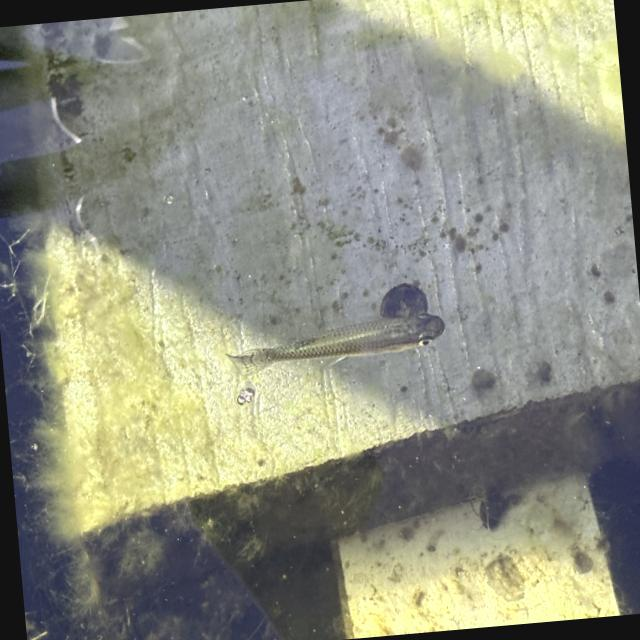Sivrisinek Baligi: (219, 277, 449, 378)
